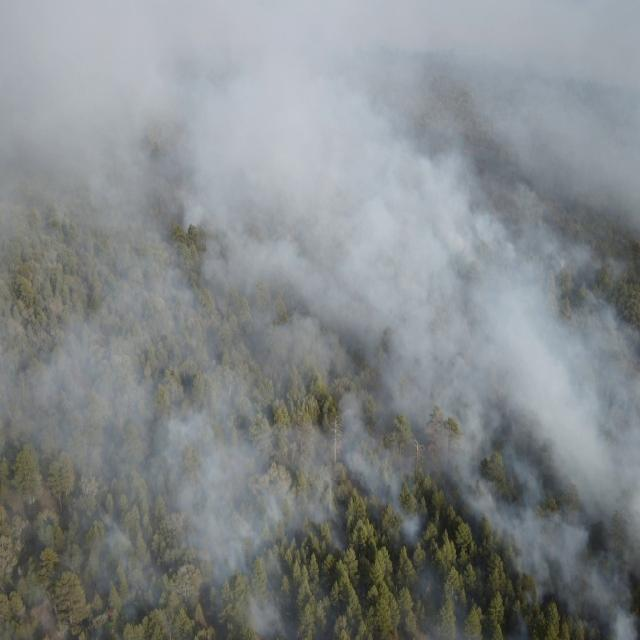fire: (102, 606, 116, 620)
smoke: (0, 0, 640, 640)
